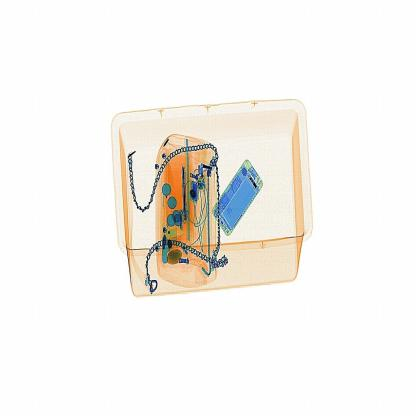knife: (176, 166, 193, 229)
